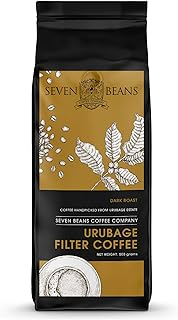Coffee: (33, 1, 158, 316)
